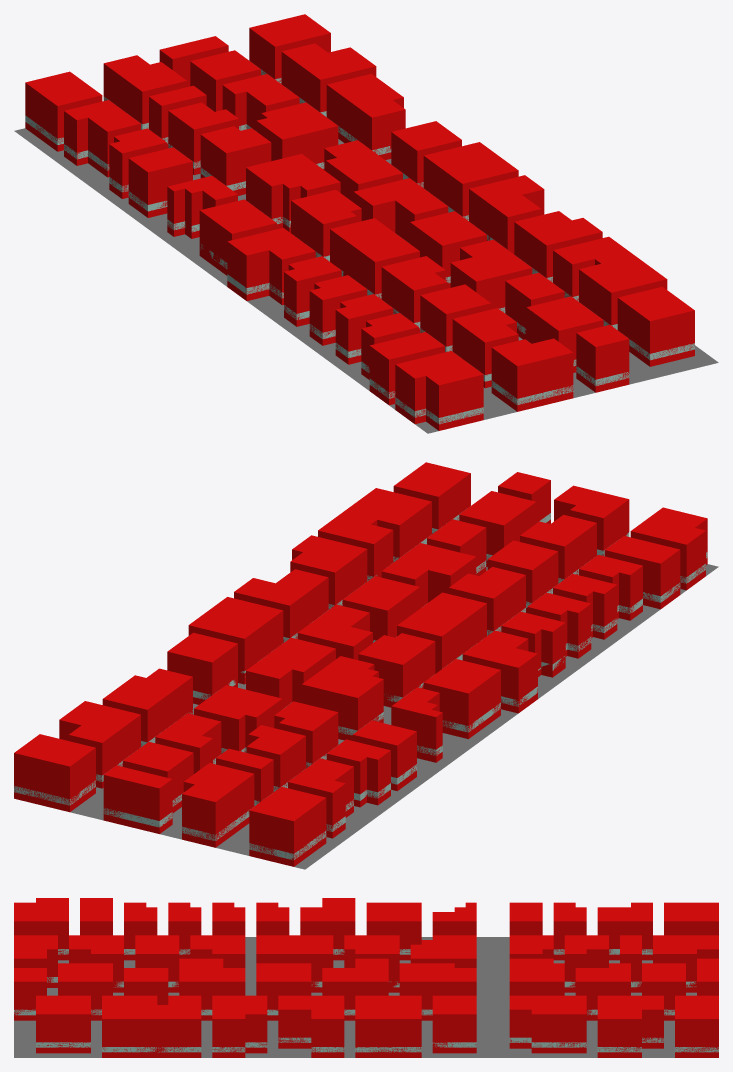
The model's file is Map.fbx.
3 renders of one model, top to bottom at view 1: azimuth 30°, elevation 25°; view 2: azimuth 150°, elevation 25°; view 3: azimuth 270°, elevation 25°, orthographic. The views are drawn at different scales.
Parts seen in each view (by area): view 1: Cube.001, Cube, Cube.002; view 2: Cube.001, Cube, Cube.002; view 3: Cube.001, Cube, Cube.002.
Part boxes in pixels (x1,y1,x2,y2): Cube.001: [25, 14, 694, 430]; Cube: [14, 128, 718, 433]; Cube.002: [25, 61, 694, 424]; Cube.001: [14, 462, 707, 866]; Cube: [70, 564, 718, 869]; Cube.002: [14, 506, 707, 859]; Cube.001: [14, 898, 718, 1057]; Cube: [14, 937, 696, 1057]; Cube.002: [14, 949, 718, 1052].
Bounding box in the file's own units: 4669 × 700 × 11492.
